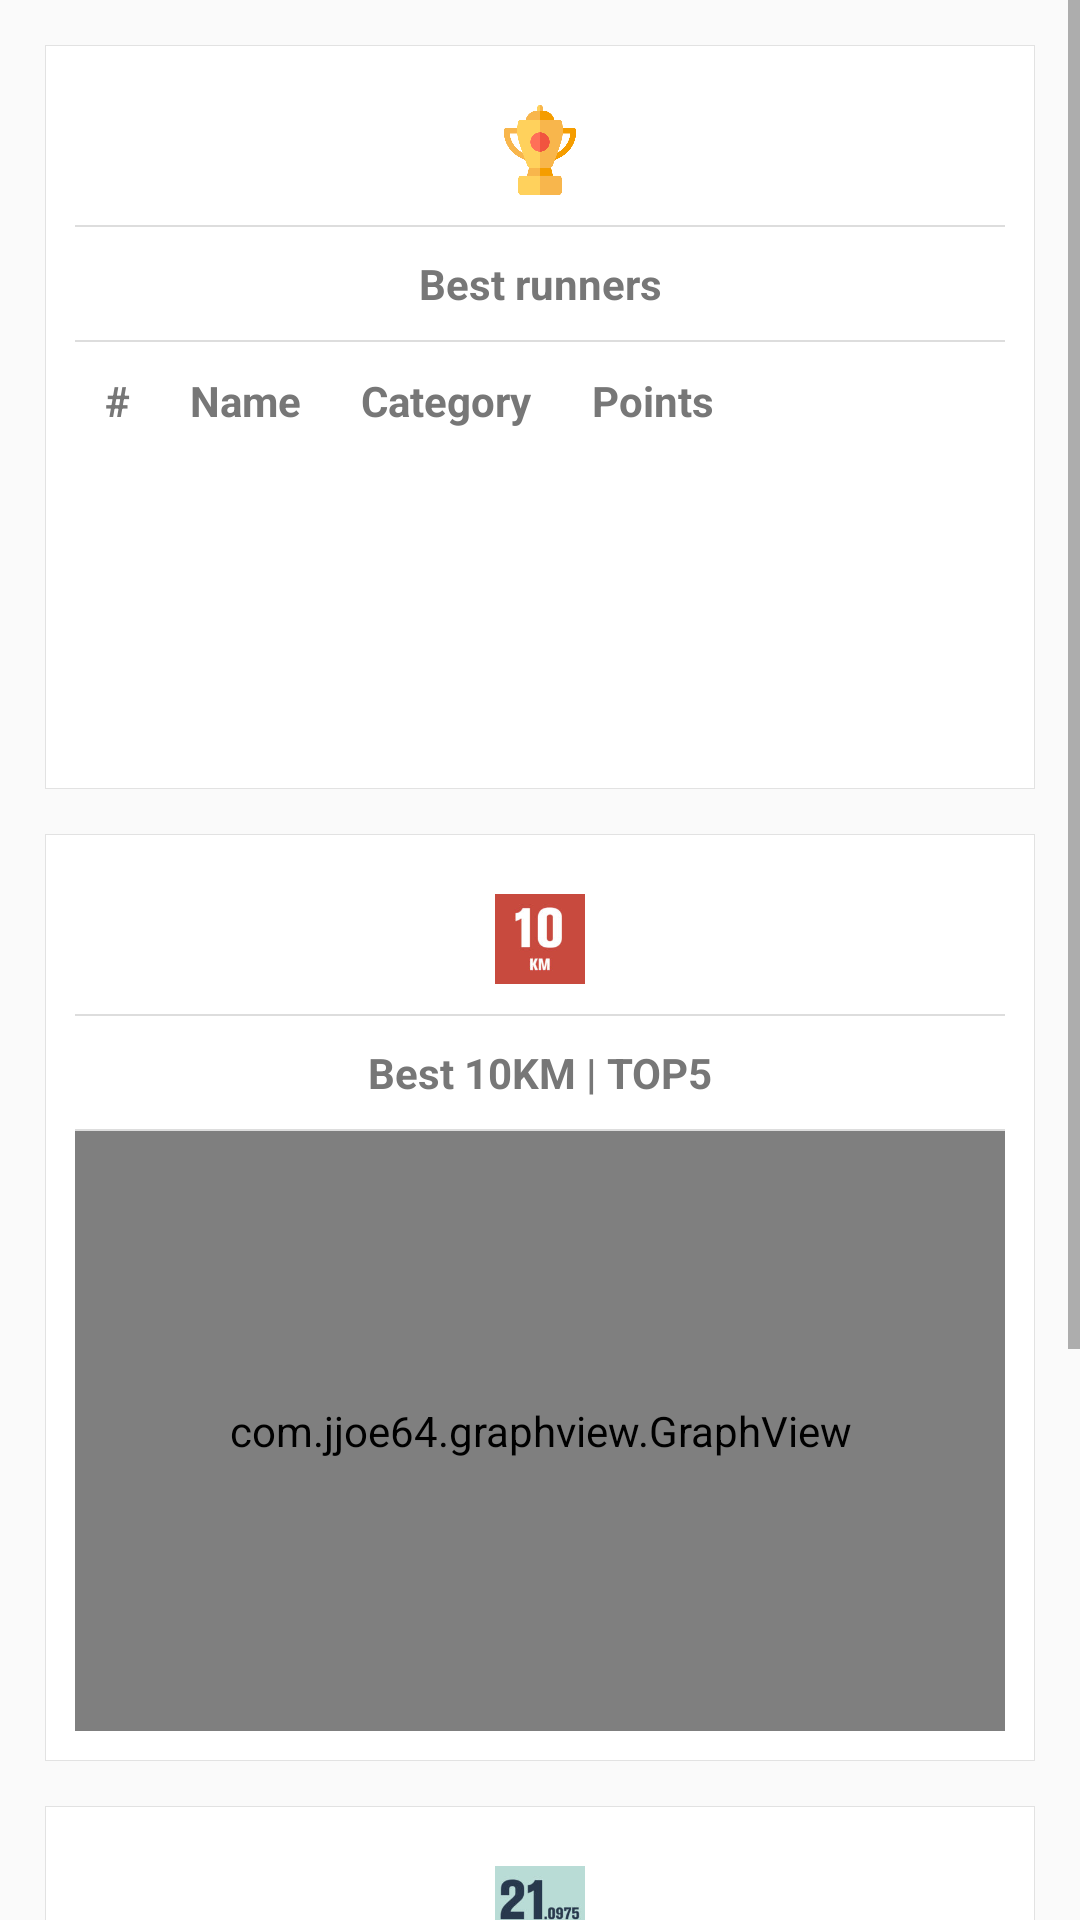

Screen size 1080px×1920px. Icon name, then its box in pixels as (x1, y1, x2, y2):
trophy: (504, 105, 576, 195)
